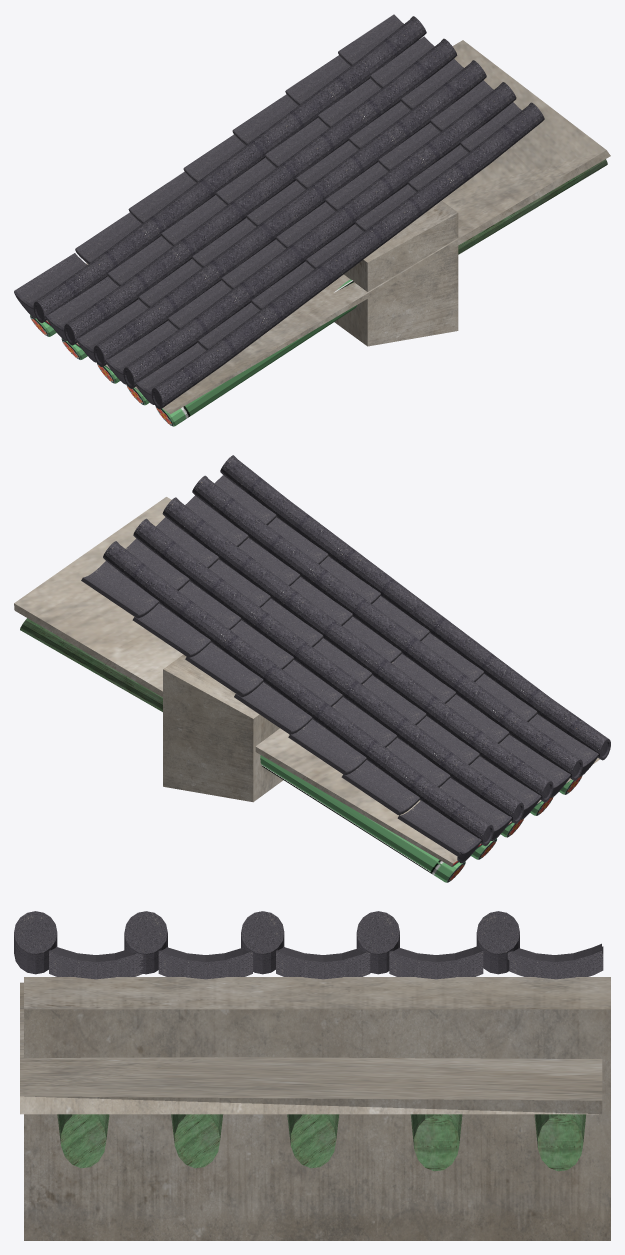
The model's file is SM_Roof_31.fbx.
3 renders of one model, top to bottom at view 1: azimuth 30°, elevation 25°; view 2: azimuth 150°, elevation 25°; view 3: azimuth 270°, elevation 25°, orthographic. The views are drawn at different scales.
Visible parts, largest first — view 1: SM_Roof_31; view 2: SM_Roof_31; view 3: SM_Roof_31.
Part boxes in pixels (x1=…): SM_Roof_31: x1=14, y1=14, x2=610, y2=426; SM_Roof_31: x1=14, y1=455, x2=610, y2=882; SM_Roof_31: x1=14, y1=911, x2=610, y2=1240.
Size of the model in its own units: 366 by 209 by 186.
5 materials, 5 textured.
